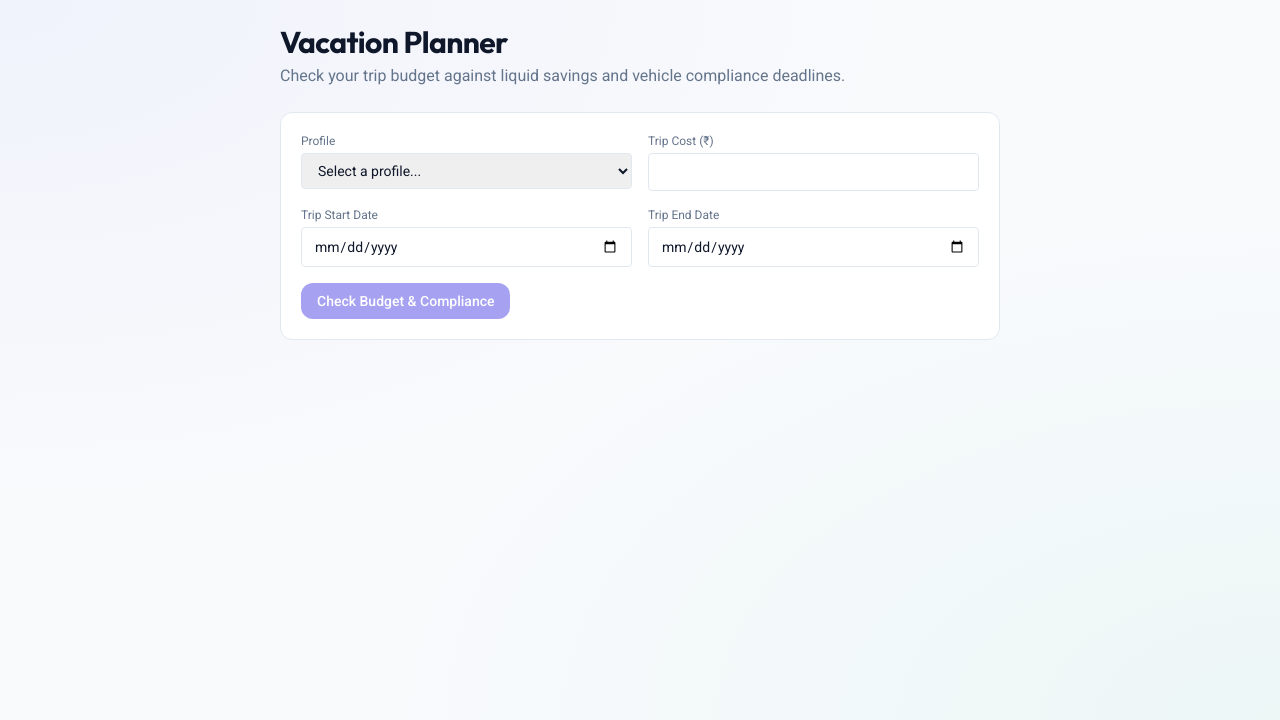
Scenario: VacationPlanner page › shows PASS budget check and no compliance issues
Step 1. Select "Alice" in the dropdown labelled "Profile" → (466, 171), box [301,153,632,189]
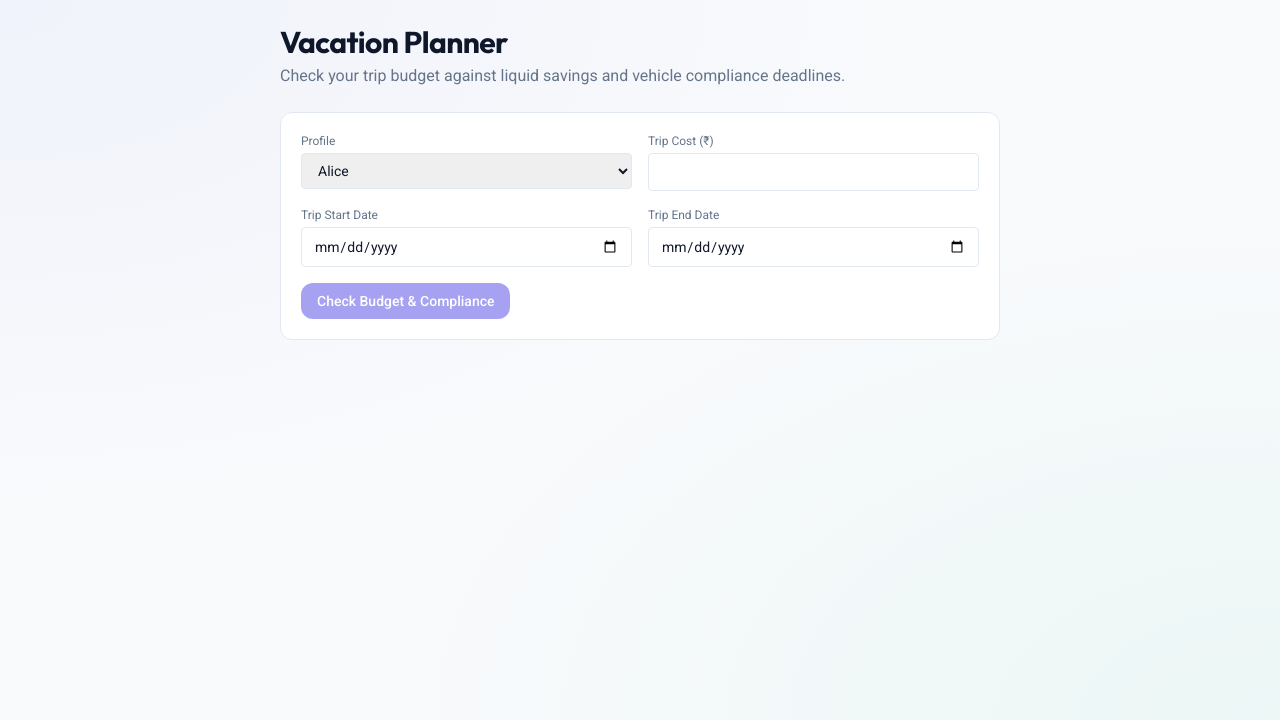
Step 2. Type "50000" into the number field labelled "Trip Cost (₹)" → (814, 172), box [648,153,979,191]
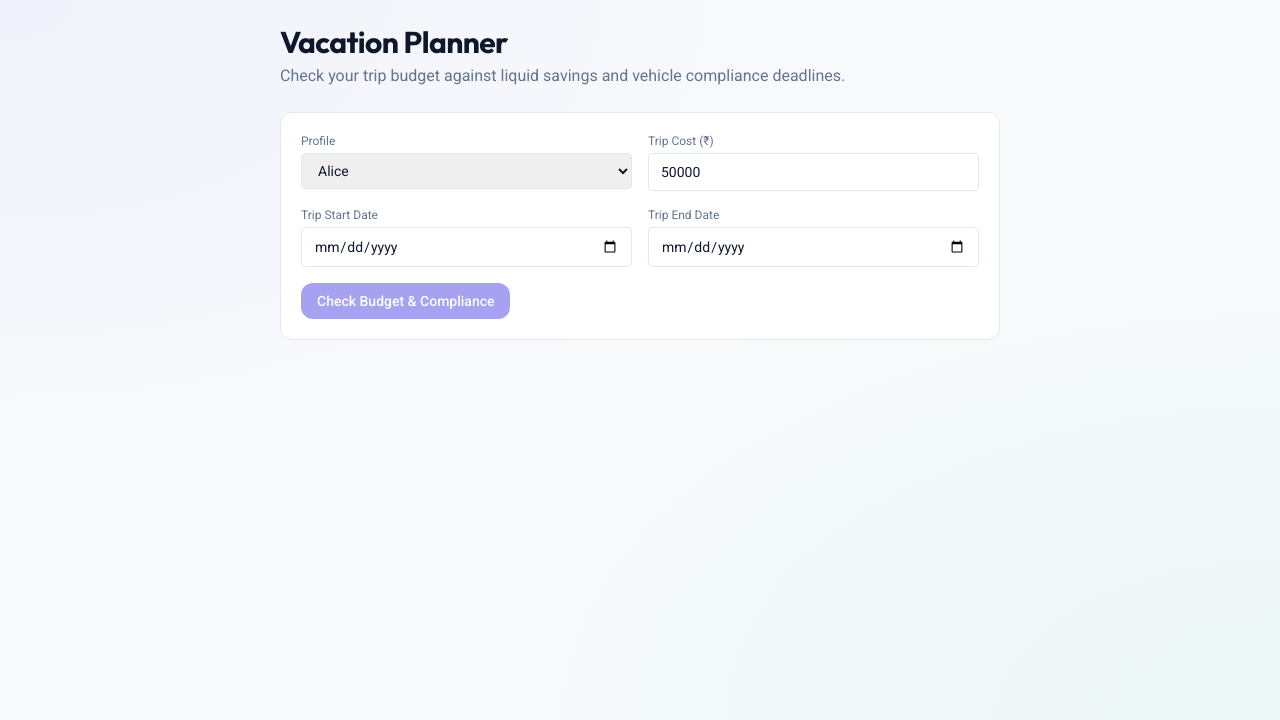
Step 3. Type "2026-08-10" into the date field labelled "Trip End Date" → (814, 247), box [648,227,979,267]
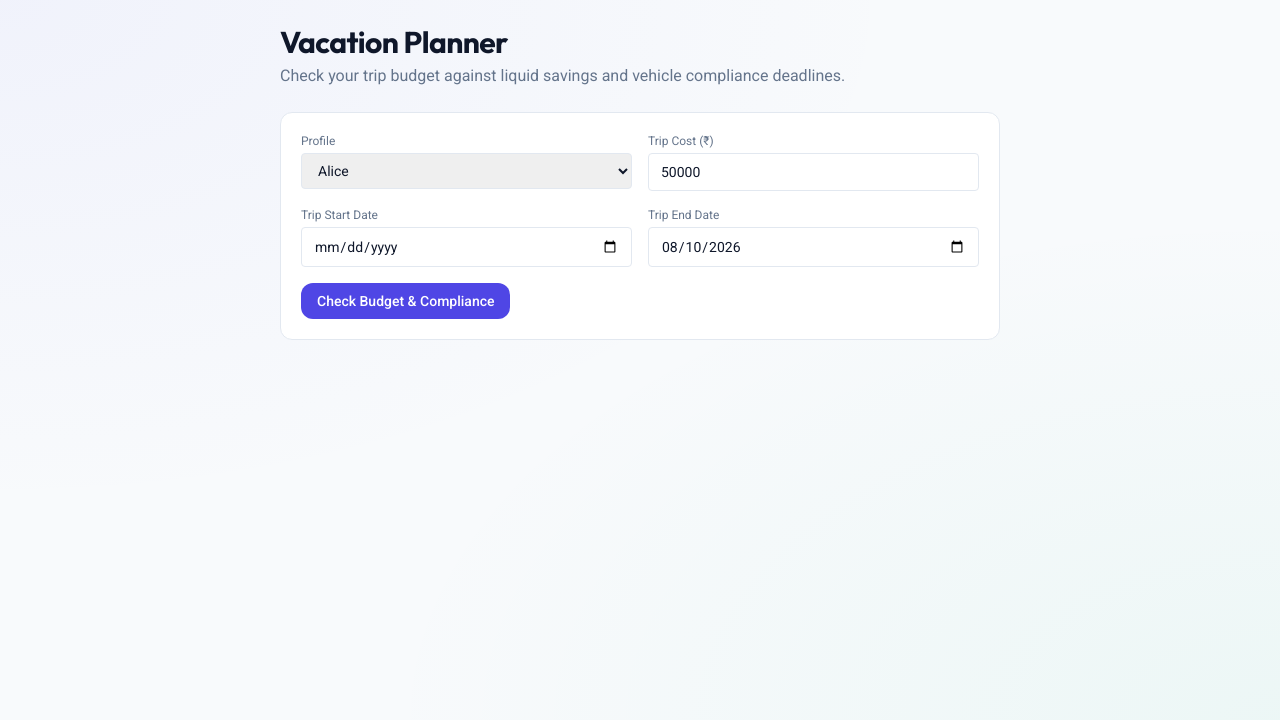
Step 4. Click the button "Check Budget & Compliance" → click(406, 301), box [301,283,510,319]
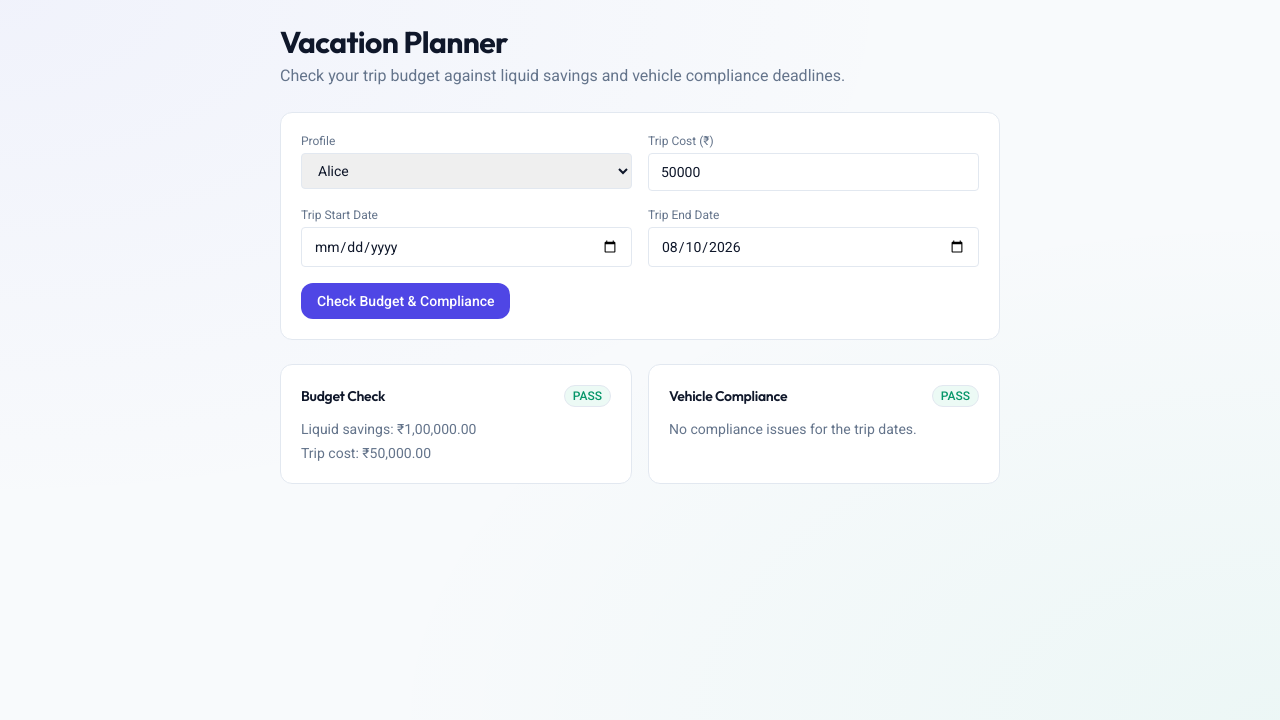
Result: the text "PASS" is shown 2 times at [564,385,611,407]; [932,385,979,407]
Result: the text "No compliance issues for the trip dates." is shown at [669,421,917,437]
